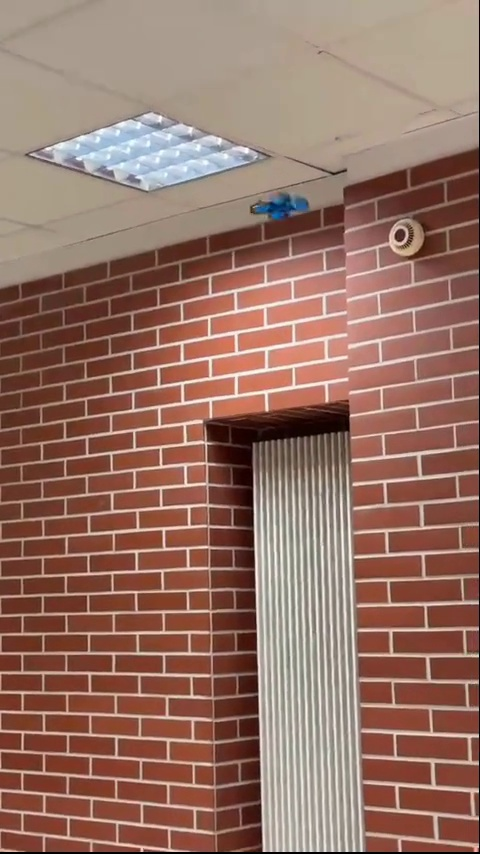drone: (247, 192, 312, 222)
